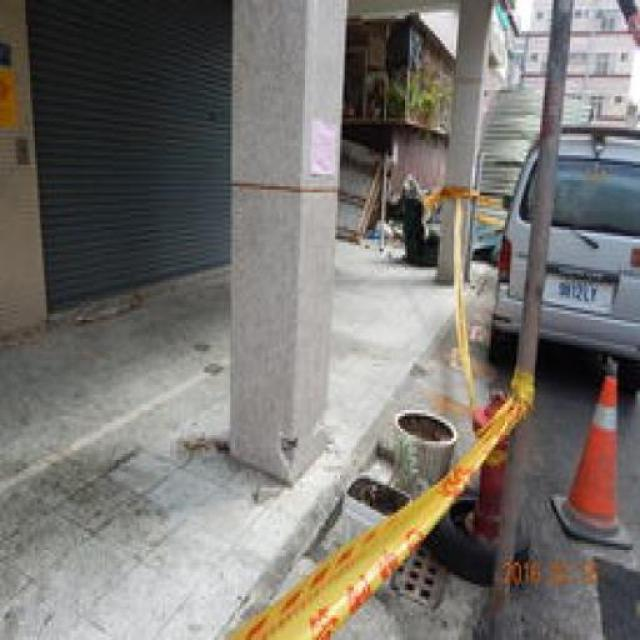D10: (280, 434, 299, 464)
